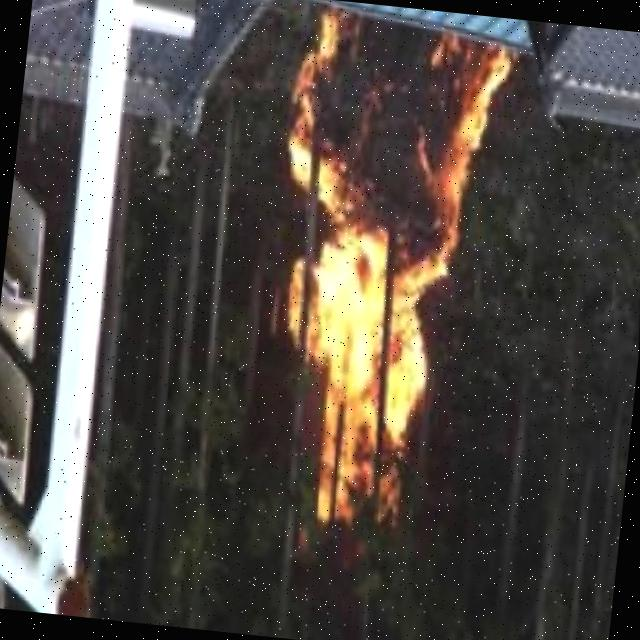fire: (235, 8, 529, 545)
